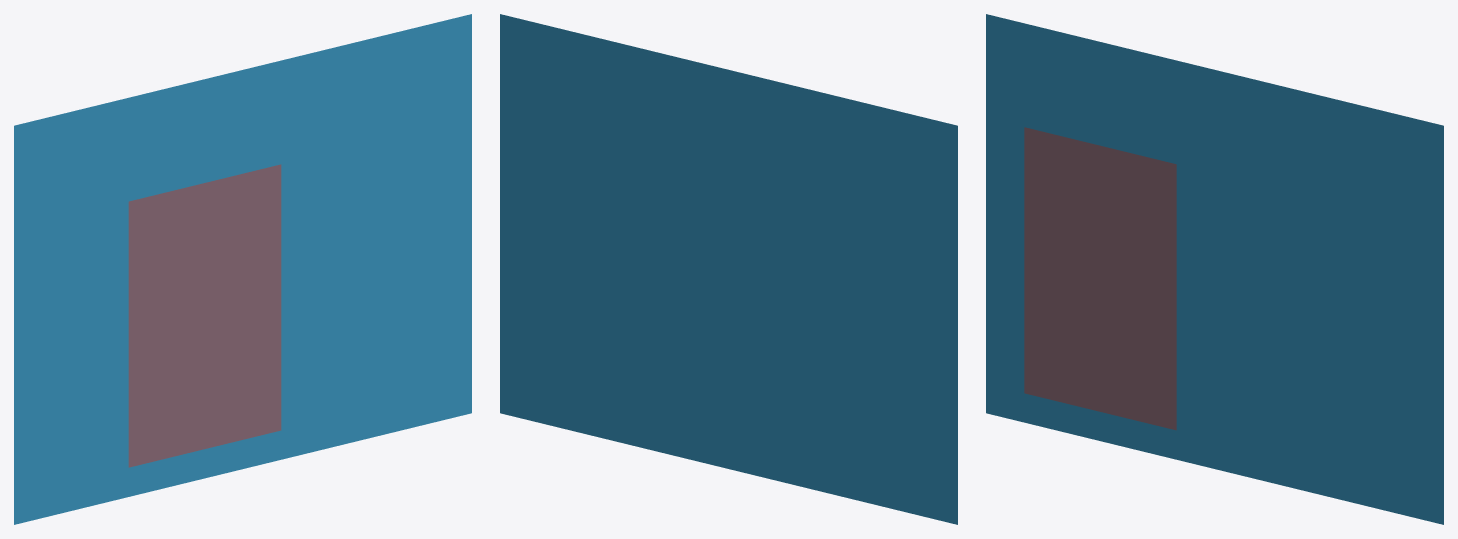
The model's file is alpha-blend.gltf.
3 views of the same model, side by side, from view 1: azimuth 30°, elevation 25°; view 2: azimuth 150°, elevation 25°; view 3: azimuth 330°, elevation 25° (orthographic).
Bounding box in the file's own units: 9 × 7.5 × 1.3.
